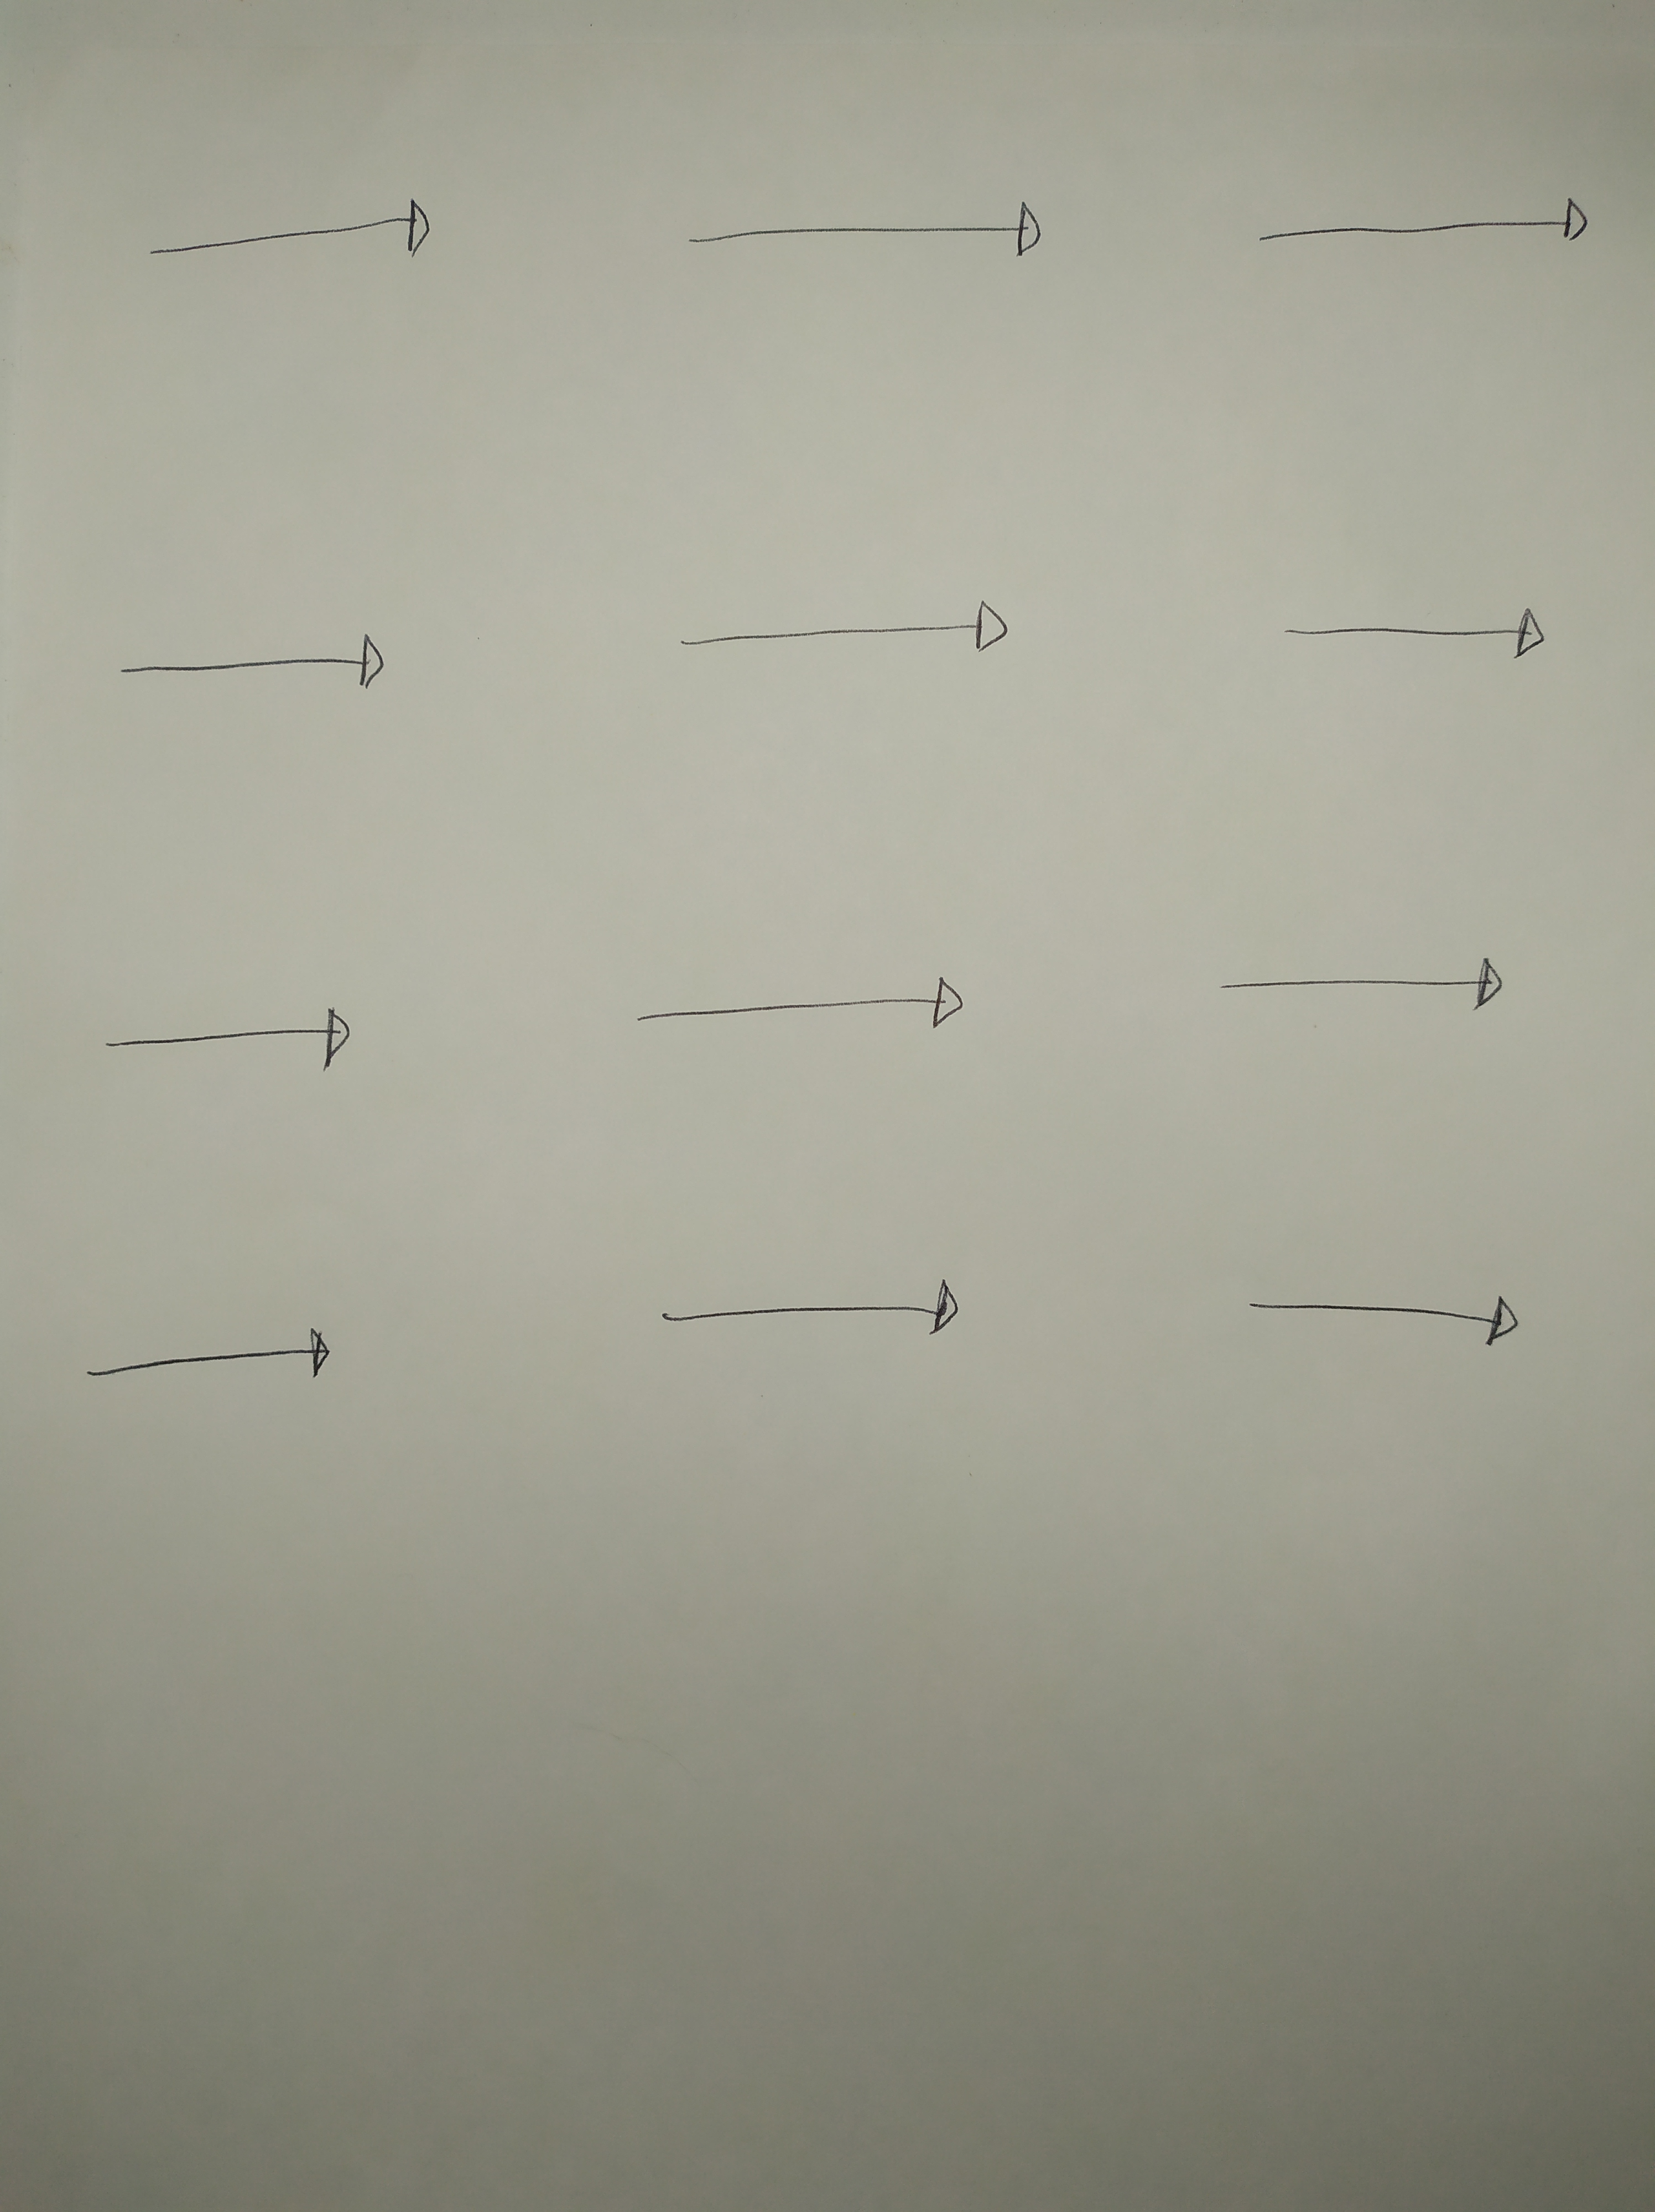arrow_line_right: (655, 165, 1080, 297), (1250, 169, 1622, 295), (641, 579, 1045, 685), (1208, 1258, 1545, 1373), (614, 1263, 987, 1364), (605, 963, 979, 1056), (120, 189, 471, 287), (1264, 582, 1570, 686), (1194, 947, 1518, 1039), (82, 997, 386, 1088), (96, 624, 393, 712), (66, 1314, 353, 1388)
